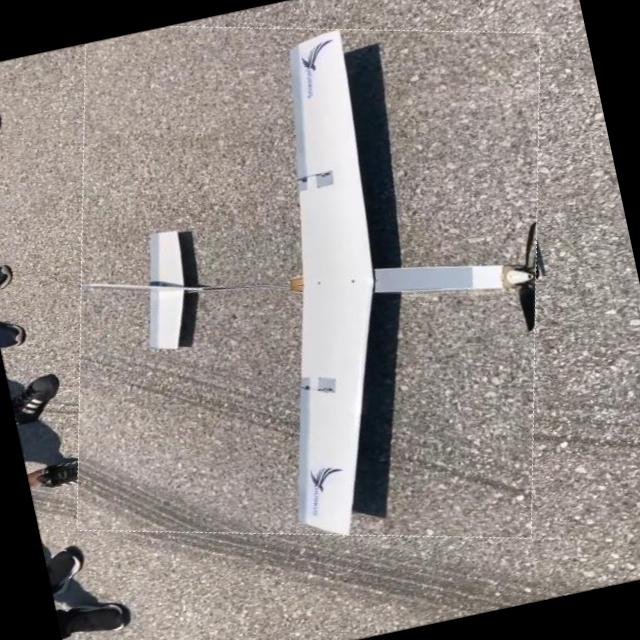UAV: (26, 0, 623, 601)
